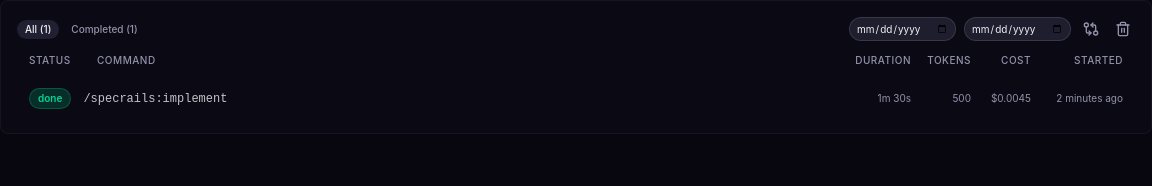
Test: RecentJobs - extended coverage › compare mode › toggles compare mode on and off
This screenshot has width=1152, height=186.
What coordinates should you click on to do the following:
click the 3rd button
I would click on:
 (1091, 29)
Its box is [1079,17,1103,41].
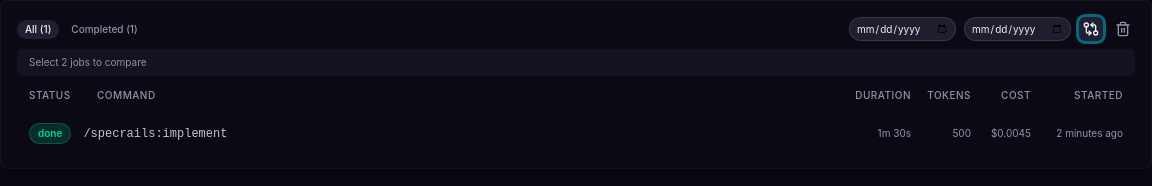
expect the text "Select 2 jobs to compare" is shown: met, box [29,55,147,70]
// Click again to exit
What coordinates should you click on to do the following:
click the 3rd button
I would click on:
 (1091, 29)
Its box is [1079,17,1103,41].
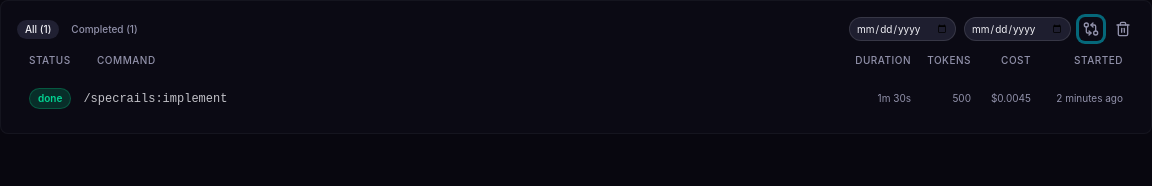
expect the text "Select 2 jobs to compare" is gone: met
